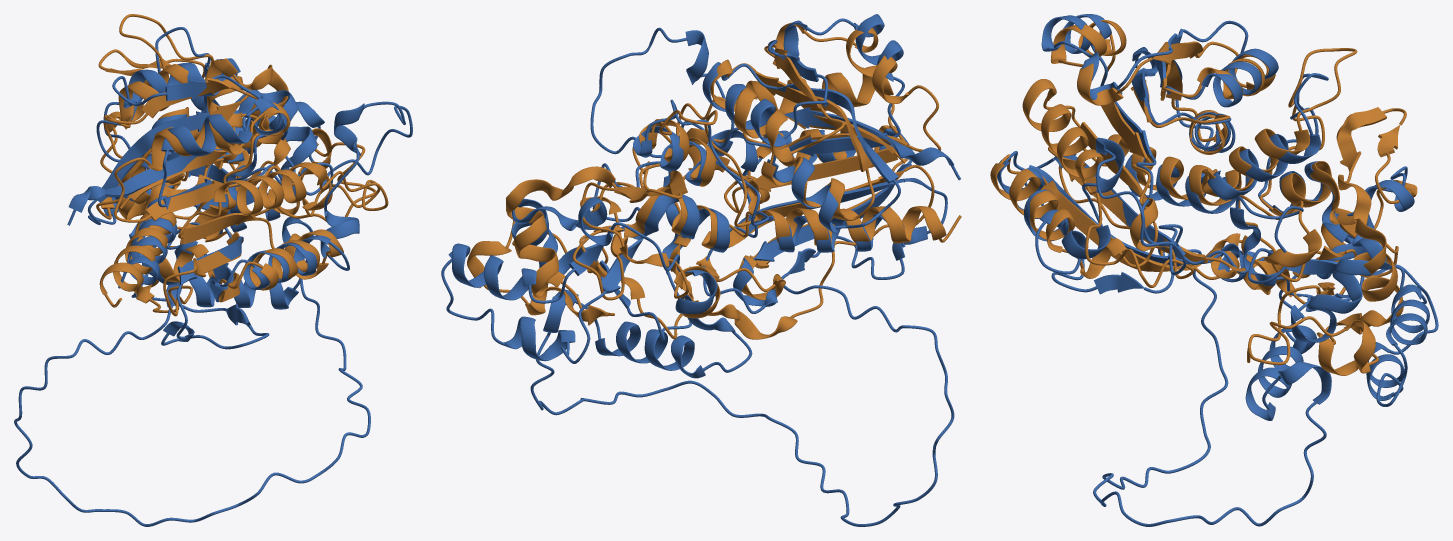
The model's file is AF-A0A6I4ZMH2-F1-AF-A0A0U1U562-F1_TM-align.glb.
3 renders of one model, left to right at view 1: azimuth 30°, elevation 25°; view 2: azimuth 150°, elevation 25°; view 3: azimuth 270°, elevation 25°, orthographic. The views are drawn at different scales.
Bounding box in the file's own units: 64.11 × 67.45 × 58.34.
